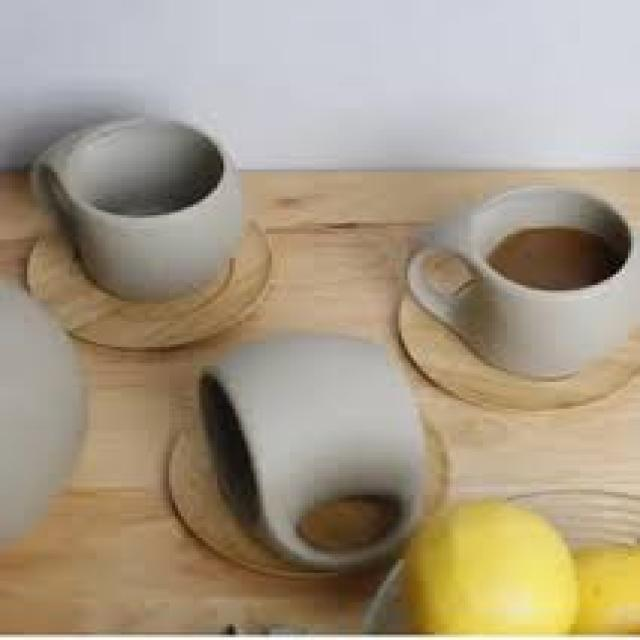taza: (186, 336, 441, 576), (386, 183, 640, 387), (22, 106, 249, 304)
